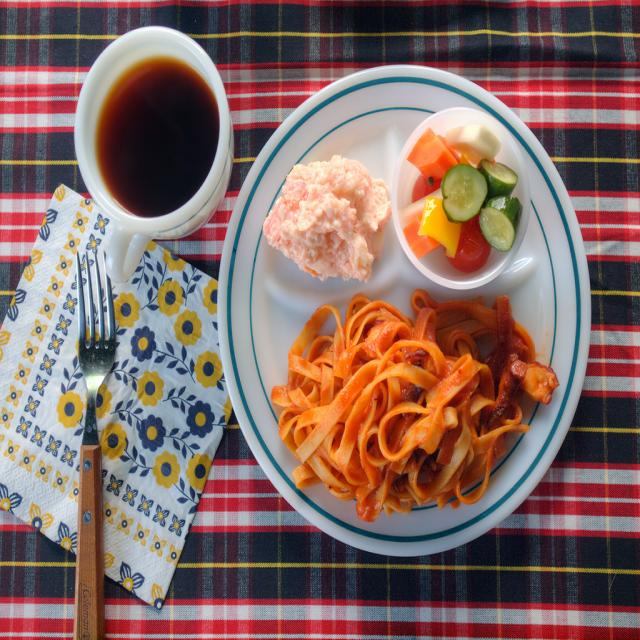Tea: (94, 62, 218, 214)
